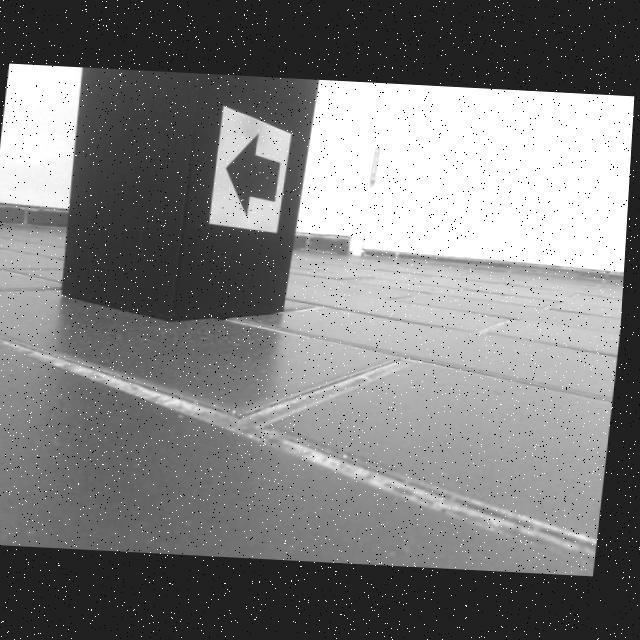LEFT: (228, 132, 284, 218)
